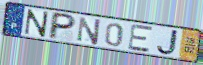0: (104, 22, 127, 47)
E: (128, 24, 154, 54)
J: (155, 28, 180, 56)
N: (23, 8, 50, 39), (77, 16, 103, 47)
P: (46, 11, 78, 41)
